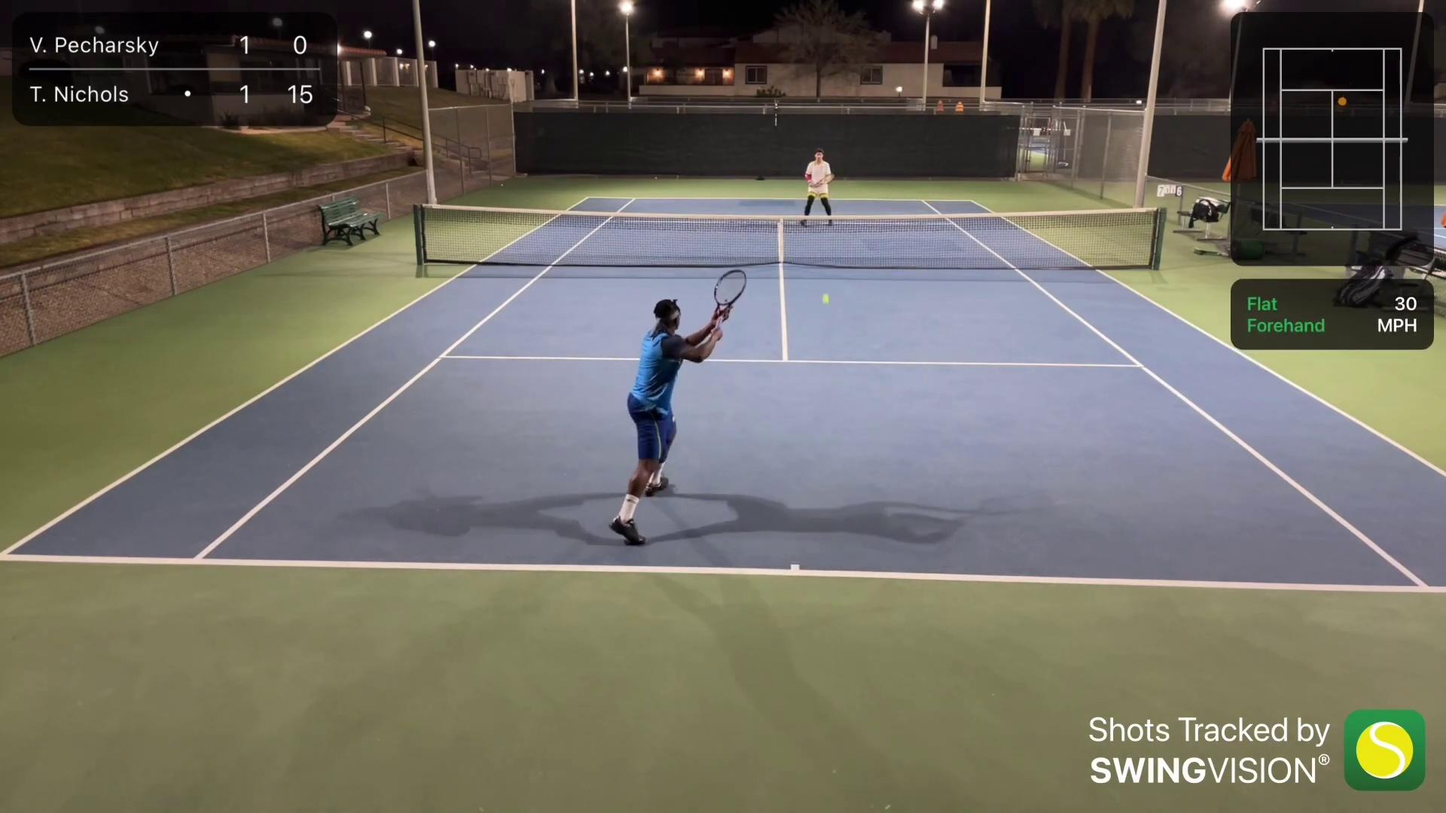ball: (821, 290, 832, 304)
